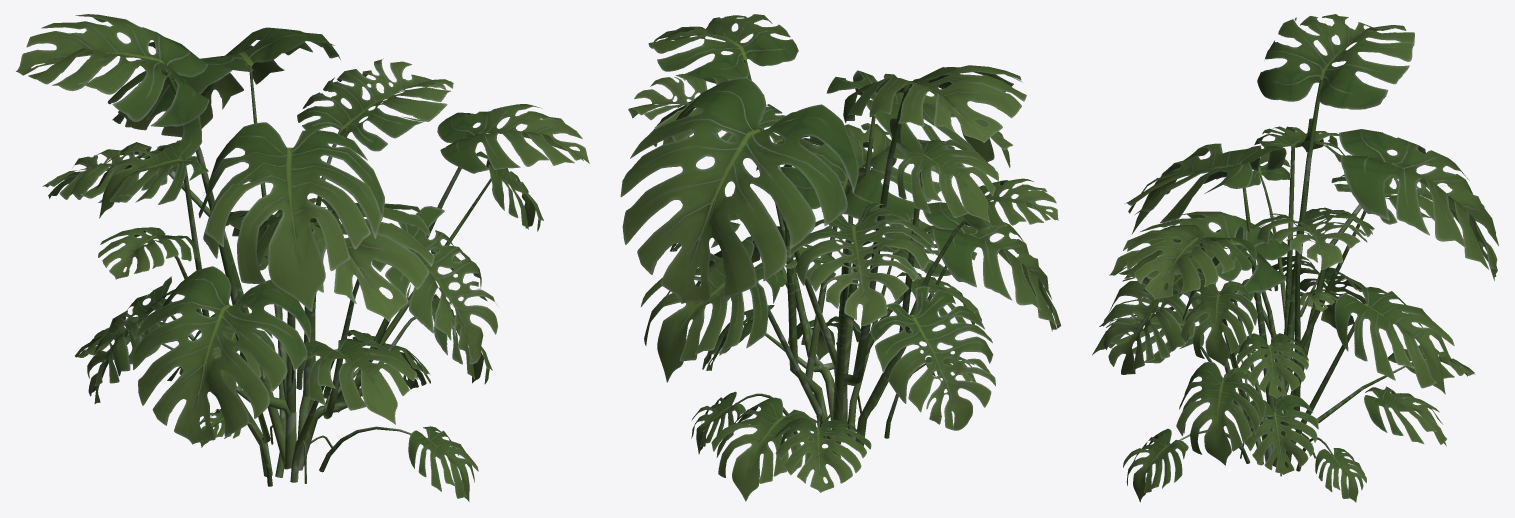
The model's file is Plant_Monstera_Deliciosa.fbx.
3 views of the same model, side by side, from view 1: azimuth 30°, elevation 25°; view 2: azimuth 150°, elevation 25°; view 3: azimuth 270°, elevation 25° (orthographic). The views are drawn at different scales.
Visible parts, largest first — view 1: Plant_Monstera_Deliciosa; view 2: Plant_Monstera_Deliciosa; view 3: Plant_Monstera_Deliciosa.
Part boxes in pixels (x1,y1,x2,y2): Plant_Monstera_Deliciosa: [16, 14, 589, 501]; Plant_Monstera_Deliciosa: [620, 14, 1061, 501]; Plant_Monstera_Deliciosa: [1092, 14, 1498, 502].
Size of the model in its own units: 55.76 by 52 by 50.73.
